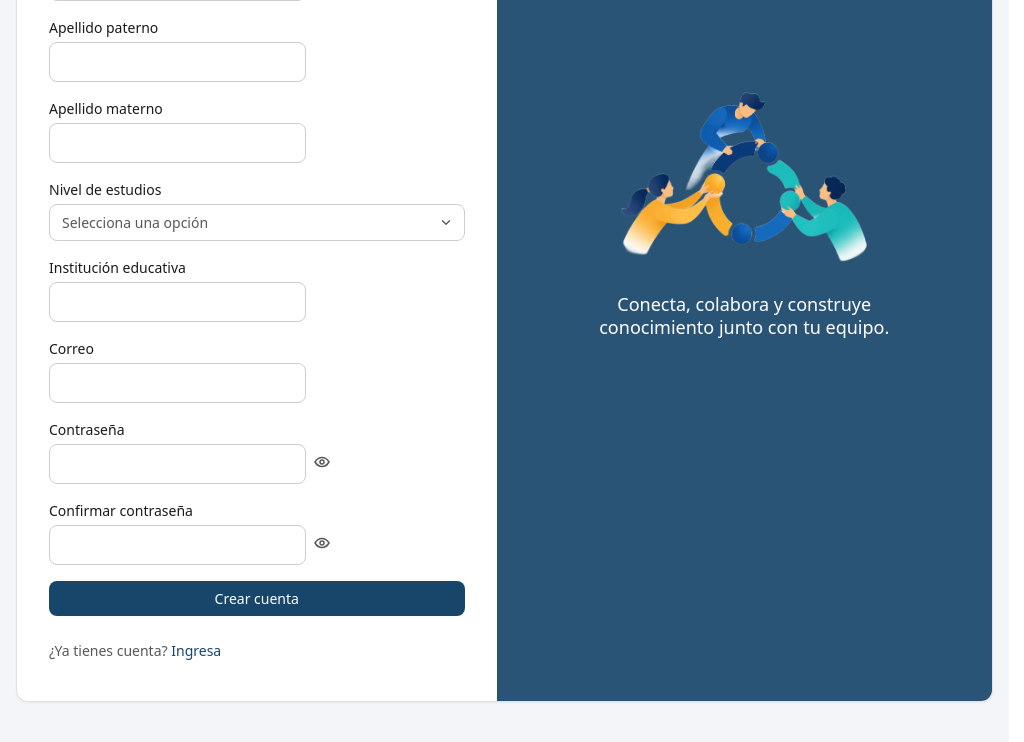
PantallaRegistrarse › marca error cuando las contraseñas no coinciden
The image size is (1024, 742).
(page scrolled)
In the password field labelled "Contraseña": (178, 464) [49,444,306,484], type "clave1234"
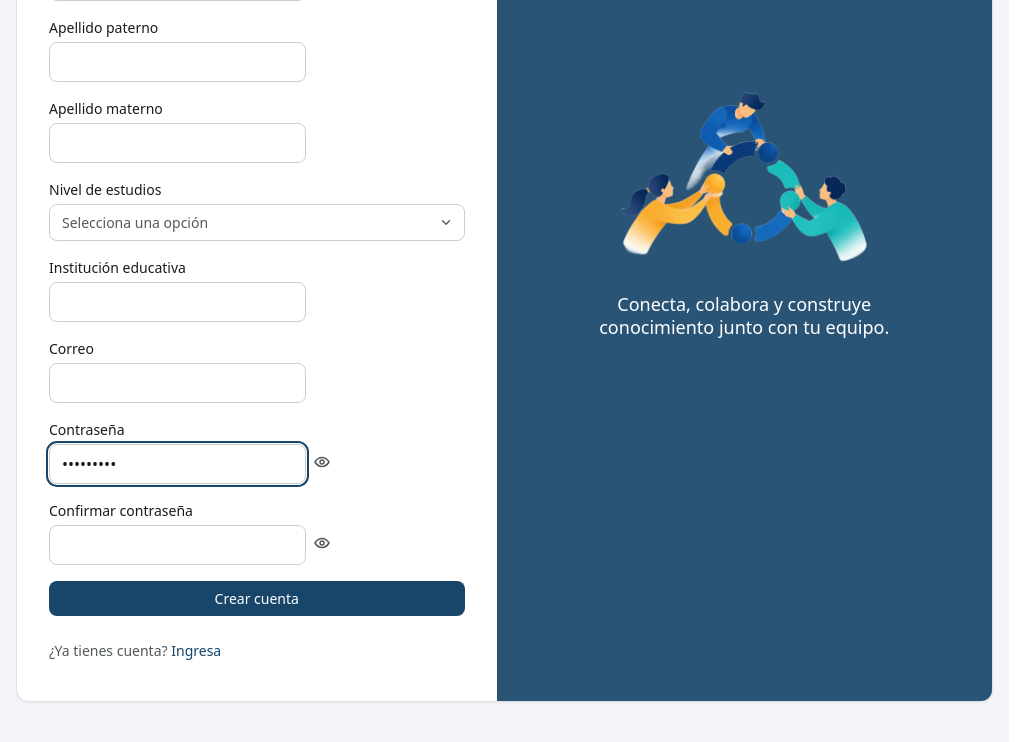
In the password field labelled "Confirmar contraseña": (178, 544) [49,524,306,564], type "otraClave"
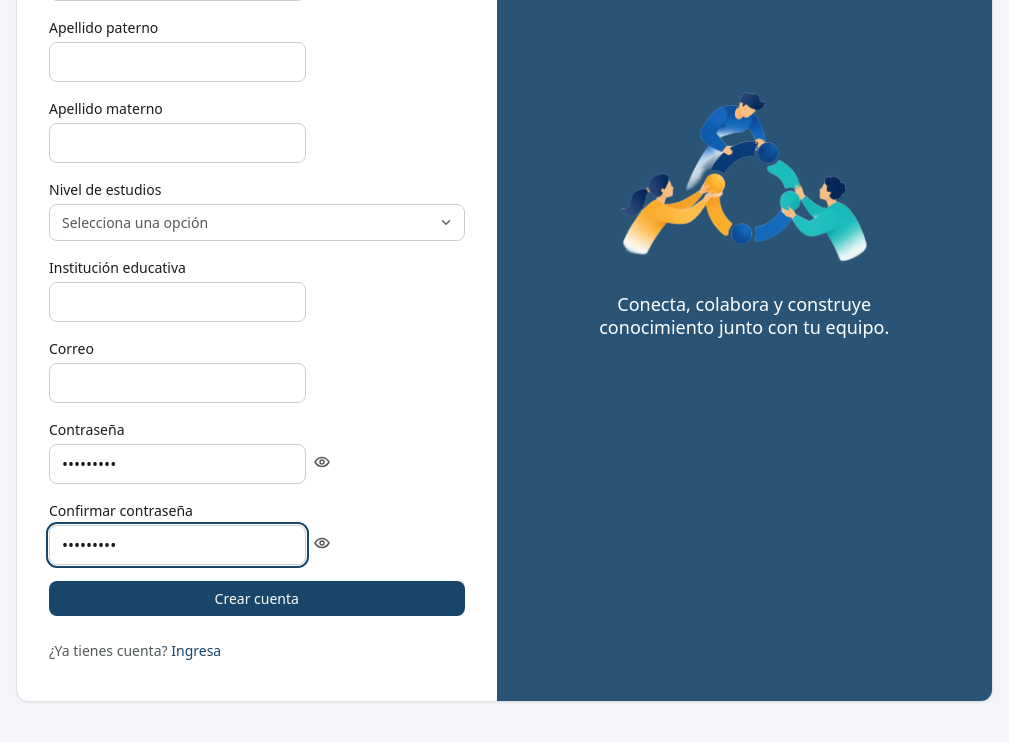
Press Tab
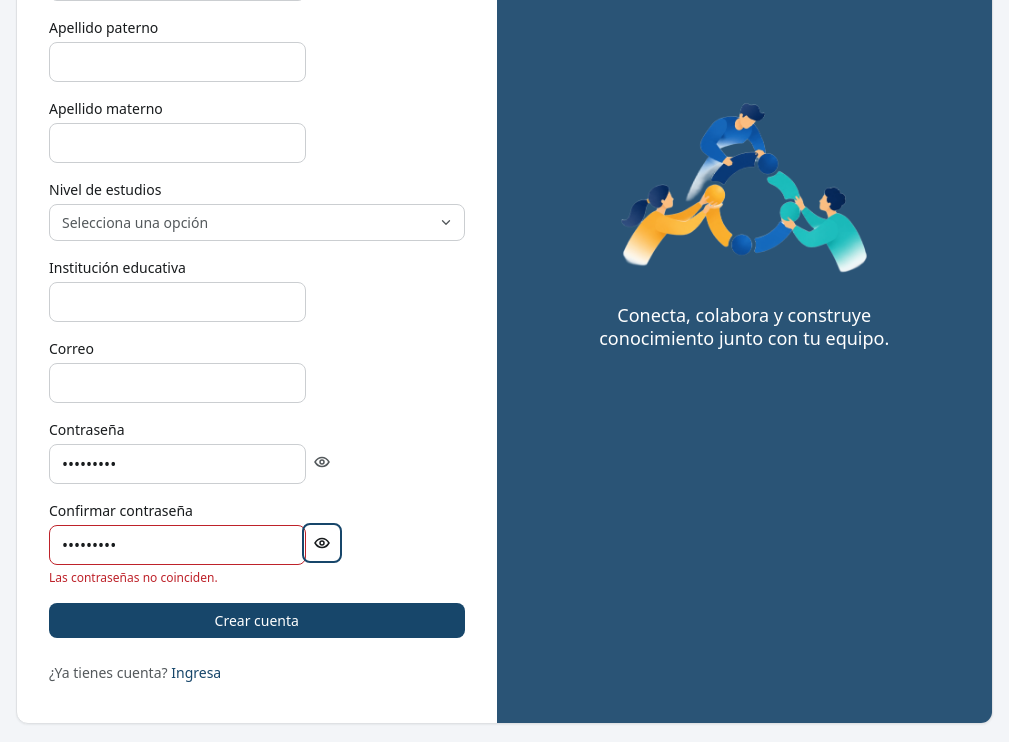
Expected: the text "Las contraseñas no coinciden." is shown, [49,568,218,586]
